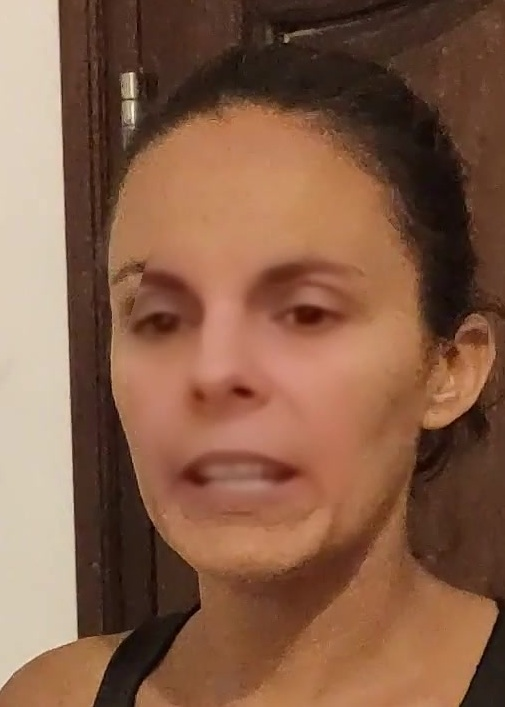eb_f: (106, 253, 378, 348)
